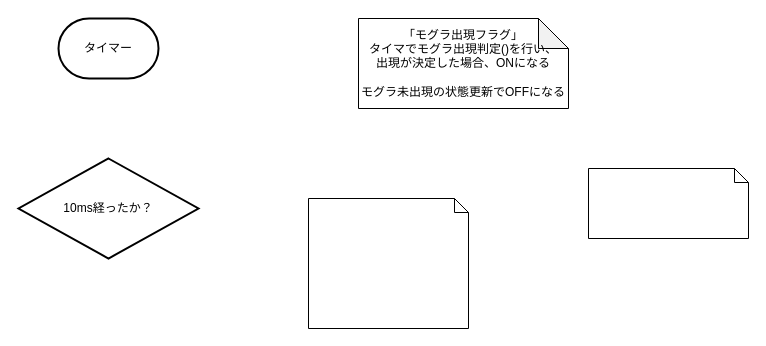
Image size: 766x346. Some labels were removed from this diagram. Here are the shapes that lost their labels. From the top down, the centre of each, then its label:
(668,203): モグラ出現判定 100msごとなどで、フラグを立てて、メイン関数で判定を行う
(388,263): 「モグラx表示時間」 モグラが表示されている時間 モグラが出現している時と、モグラが撃退され、消えるまでの時間を保持する。 タイマで時間を減少させる。
